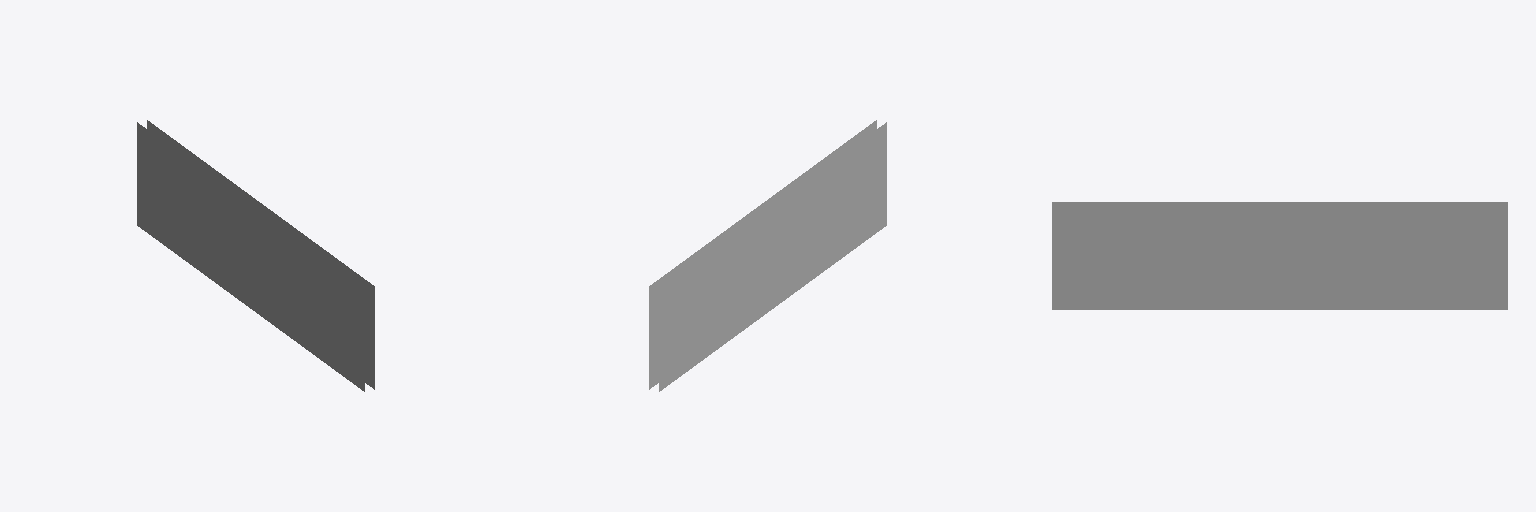
File: ArchWall.obj
3 views of the same model, side by side, from view 1: azimuth 30°, elevation 25°; view 2: azimuth 150°, elevation 25°; view 3: azimuth 270°, elevation 25° (orthographic).
Visible parts, largest first — view 1: Cube__2_.001_Scene.029; view 2: Cube__2_.001_Scene.029; view 3: Cube__2_.001_Scene.029.
Part boxes in pixels (x1,y1,x2,y2): Cube__2_.001_Scene.029: (137, 120, 374, 391); Cube__2_.001_Scene.029: (649, 120, 886, 391); Cube__2_.001_Scene.029: (1052, 202, 1507, 309).
Size of the model in its own units: 0.5003 by 5 by 20.